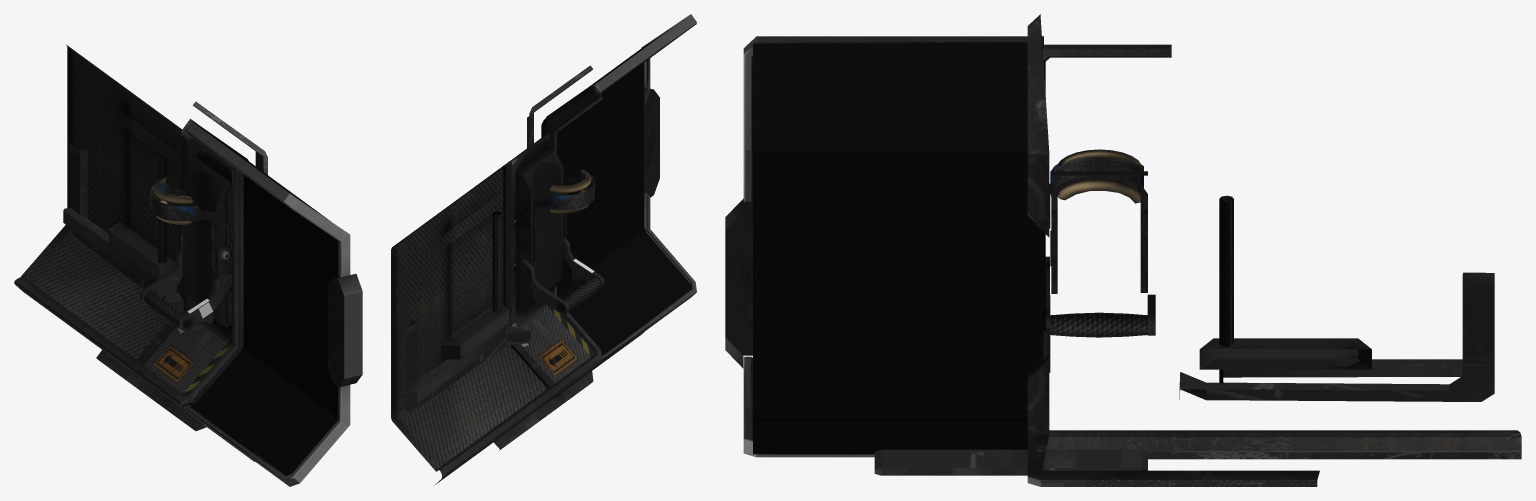
The model's file is t6_wpn_shield_view_LOD1.obj.
3 views of the same model, side by side, from view 1: azimuth 30°, elevation 25°; view 2: azimuth 150°, elevation 25°; view 3: azimuth 270°, elevation 25° (orthographic). The views are drawn at different scales.
Parts seen in each view (by area): view 1: mtl_t6_wpn_shield, mtl_t6_wpn_shield_glass_sortfx, mtl_t6_wpn_shield_camo1, mtl_t6_wpn_shield_camo3; view 2: mtl_t6_wpn_shield, mtl_t6_wpn_shield_glass_sortfx, mtl_t6_wpn_shield_camo1, mtl_t6_wpn_shield_camo3; view 3: mtl_t6_wpn_shield_glass_sortfx, mtl_t6_wpn_shield, mtl_t6_wpn_shield_camo1, mtl_t6_wpn_shield_camo3.
Boxes of the visible parts, x1,y1,x2,y2 form: mtl_t6_wpn_shield: (20,44,362,486); mtl_t6_wpn_shield_glass_sortfx: (191,138,339,475); mtl_t6_wpn_shield_camo1: (14,99,267,430); mtl_t6_wpn_shield_camo3: (144,185,227,326); mtl_t6_wpn_shield: (391,14,696,471); mtl_t6_wpn_shield_glass_sortfx: (541,28,691,354); mtl_t6_wpn_shield_camo1: (433,65,602,486); mtl_t6_wpn_shield_camo3: (559,174,601,311); mtl_t6_wpn_shield_glass_sortfx: (753,43,1042,454); mtl_t6_wpn_shield: (725,36,1494,475); mtl_t6_wpn_shield_camo1: (1027,14,1521,486); mtl_t6_wpn_shield_camo3: (1050,157,1147,337).
Bounding box in the file's own units: 24.41 × 86.96 × 133.
